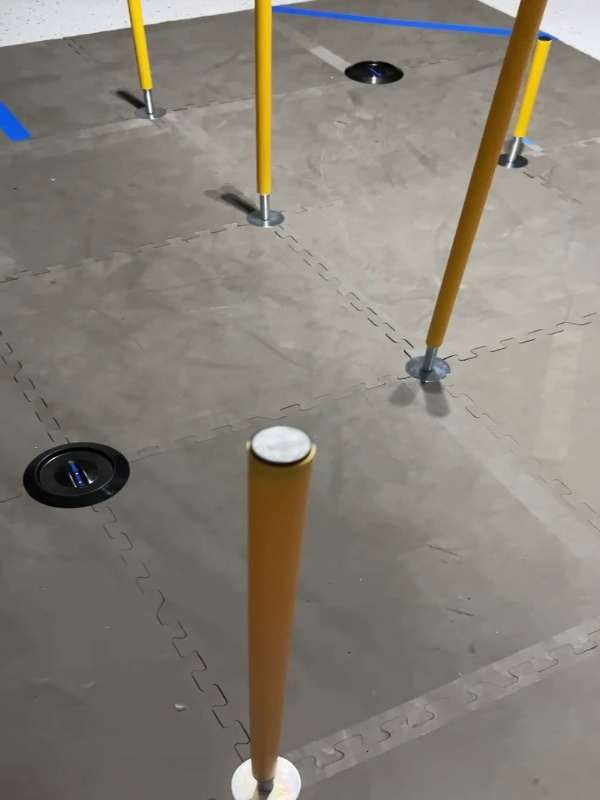base: (217, 750, 311, 800)
top: (242, 423, 320, 472)
